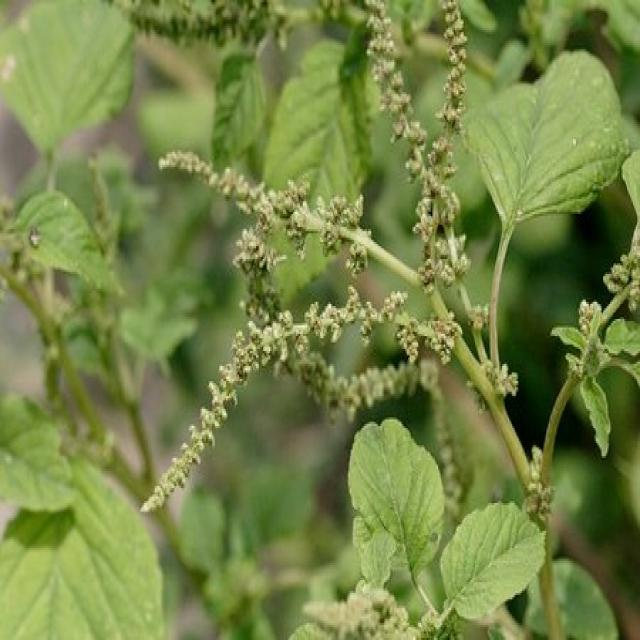Medicinal-Arive Dantu: (148, 0, 600, 627), (0, 245, 145, 640)
